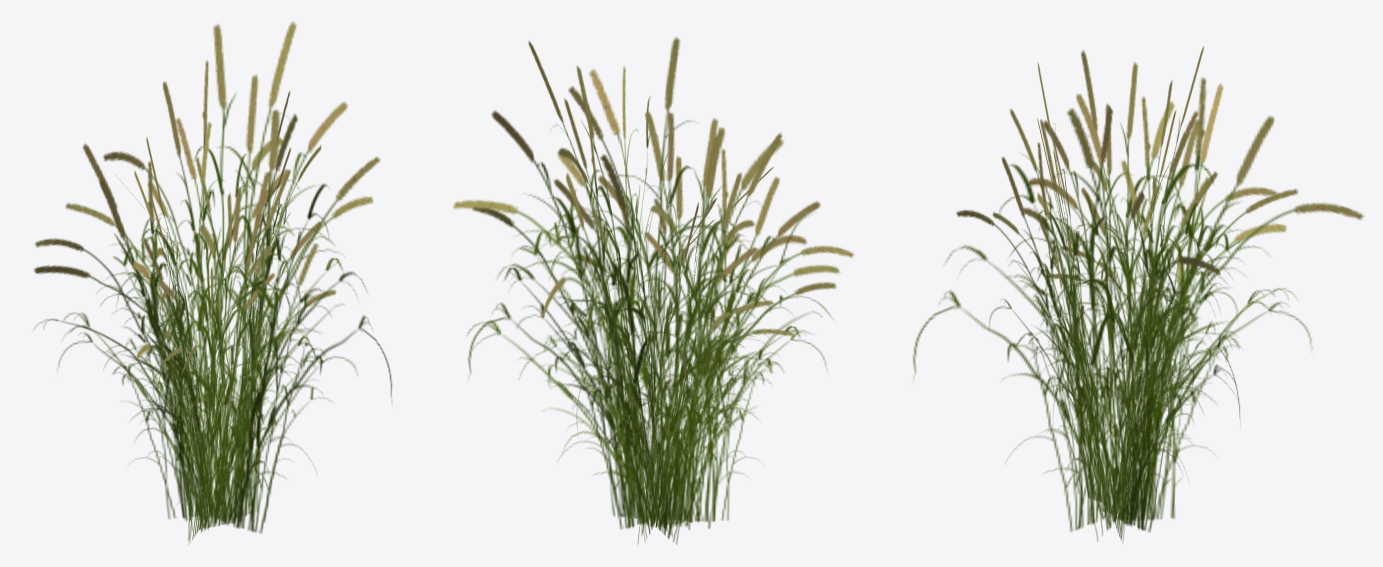
The model's file is grass_tall.glb.
The picture shows the model from 3 angles, left to right: view 1: azimuth 30°, elevation 25°; view 2: azimuth 150°, elevation 25°; view 3: azimuth 270°, elevation 25°; orthographic projection. The views are drawn at different scales.
Parts seen in each view (by area): view 1: Grass tall high; view 2: Grass tall high; view 3: Grass tall high.
Boxes of the visible parts, x1=… form: Grass tall high: x1=34, y1=21, x2=392, y2=544; Grass tall high: x1=452, y1=37, x2=853, y2=544; Grass tall high: x1=913, y1=46, x2=1363, y2=542.
Bounding box in the file's own units: 0.689 × 0.996 × 0.8336.
Materials: 1 (1 with a texture image).
